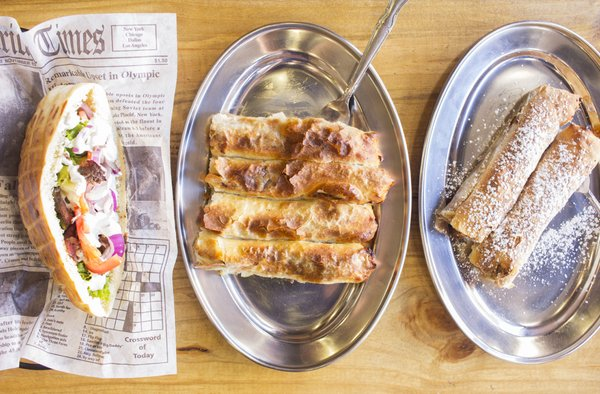salad: (321, 0, 409, 125)
